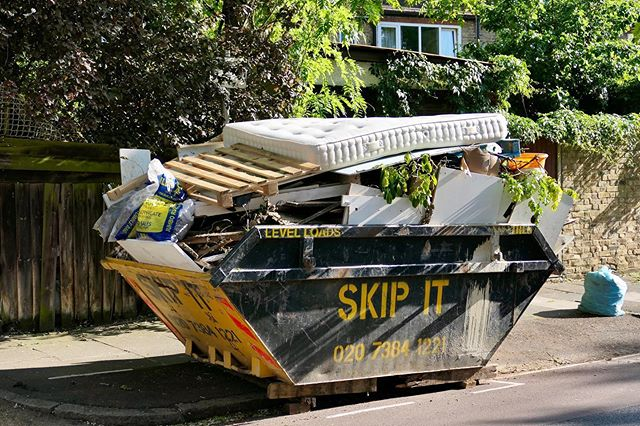building: (326, 3, 504, 99)
dumpster: (117, 225, 570, 380)
trash: (111, 113, 567, 239), (576, 269, 634, 326)
vegetation: (1, 1, 345, 103)
